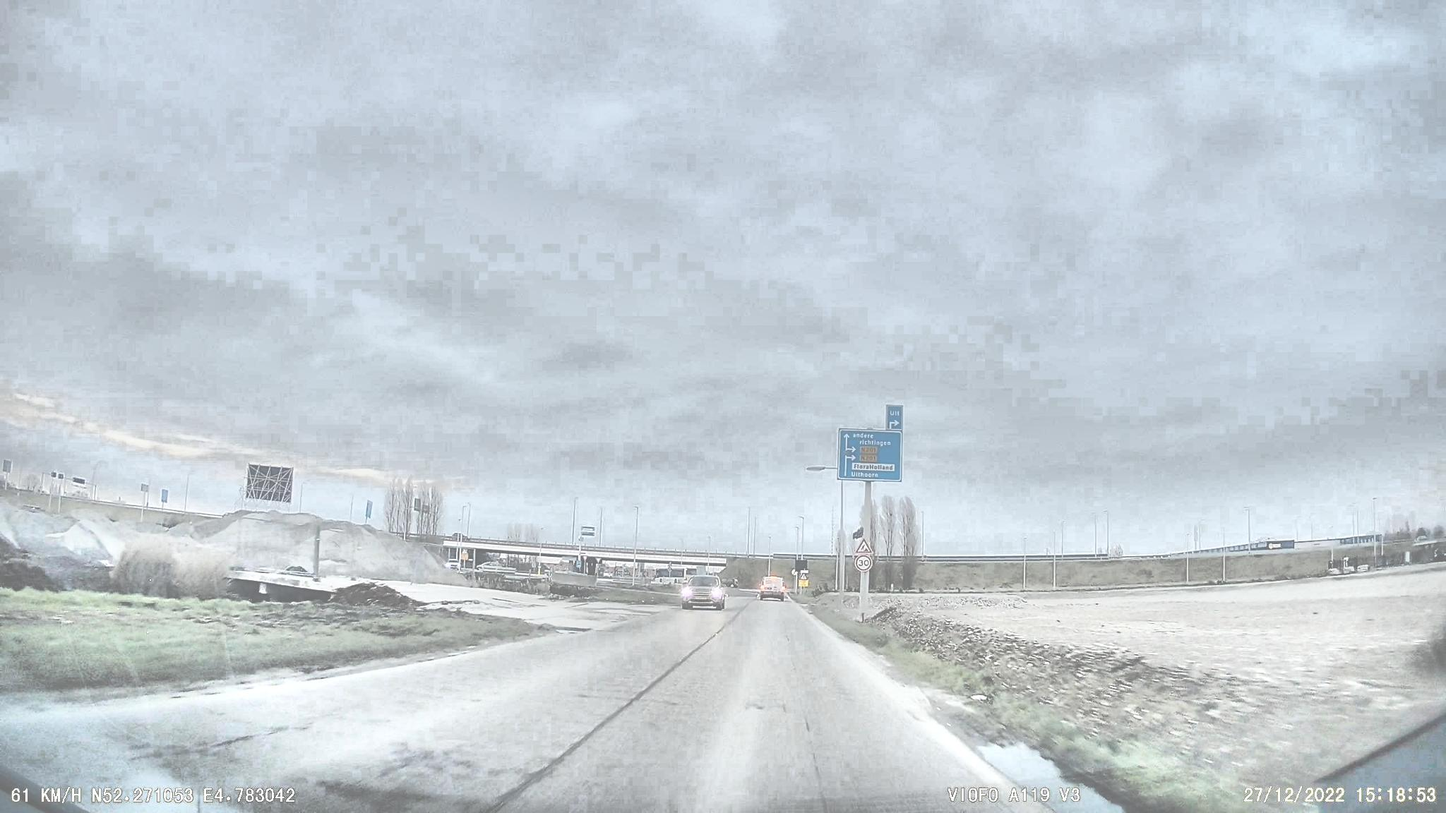Roads: (0, 598, 1130, 813)
